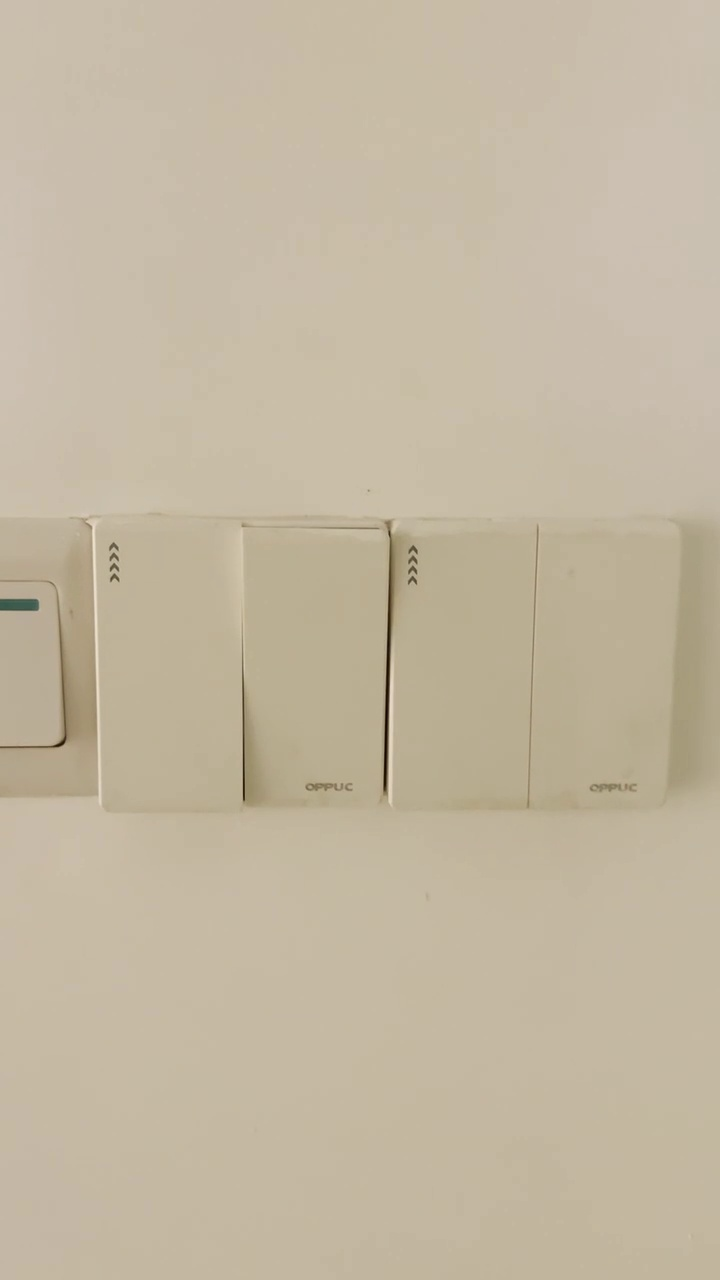button1: (100, 529, 235, 803), (397, 526, 524, 805), (250, 533, 378, 801), (543, 530, 658, 810)
